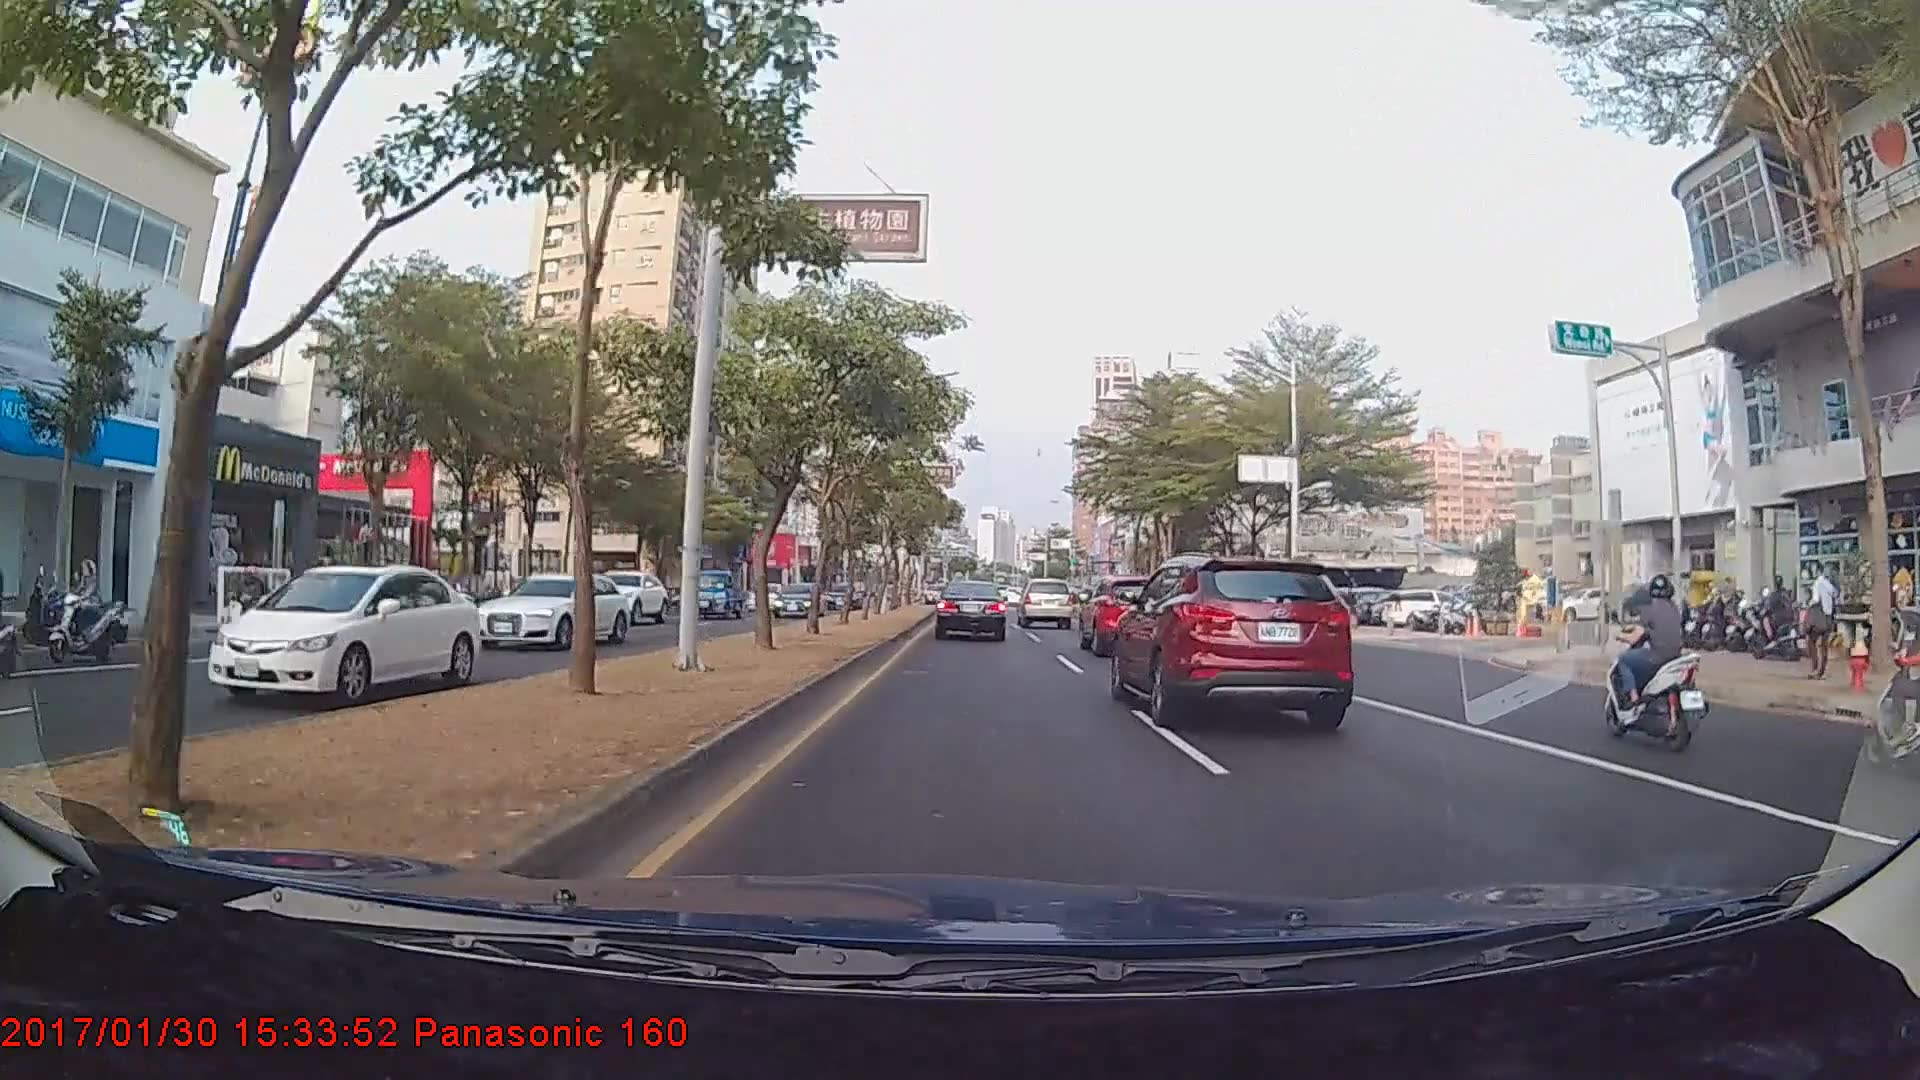pedestrian: (1807, 563, 1840, 677)
rider: (1590, 570, 1710, 753), (45, 559, 129, 666)
vehicle: (204, 559, 482, 708), (1114, 554, 1353, 723), (456, 575, 622, 653), (1078, 573, 1194, 656), (579, 571, 669, 627), (934, 579, 1008, 641), (686, 568, 745, 621), (1017, 577, 1077, 629), (772, 584, 823, 618)
